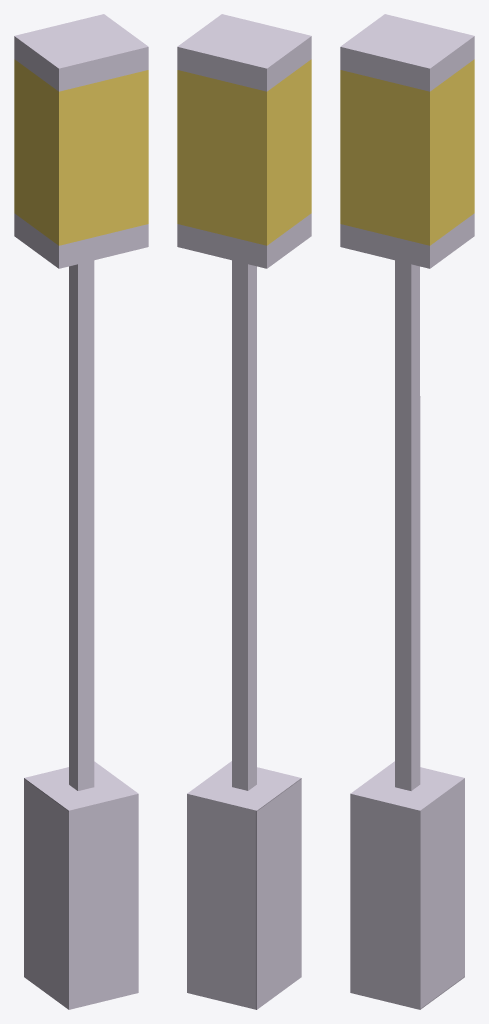
Rendered from Street Light.fbx.
The picture shows the model from 3 angles, left to right: view 1: azimuth 30°, elevation 25°; view 2: azimuth 150°, elevation 25°; view 3: azimuth 330°, elevation 25°; orthographic projection.
Visible parts, largest first — view 1: Street Light; view 2: Street Light; view 3: Street Light.
Part boxes in pixels (x1,y1,x2,y2): Street Light: [14, 14, 148, 1009]; Street Light: [177, 14, 311, 1009]; Street Light: [340, 14, 474, 1009].
Bounding box in the file's own units: 636 × 6386 × 550.
